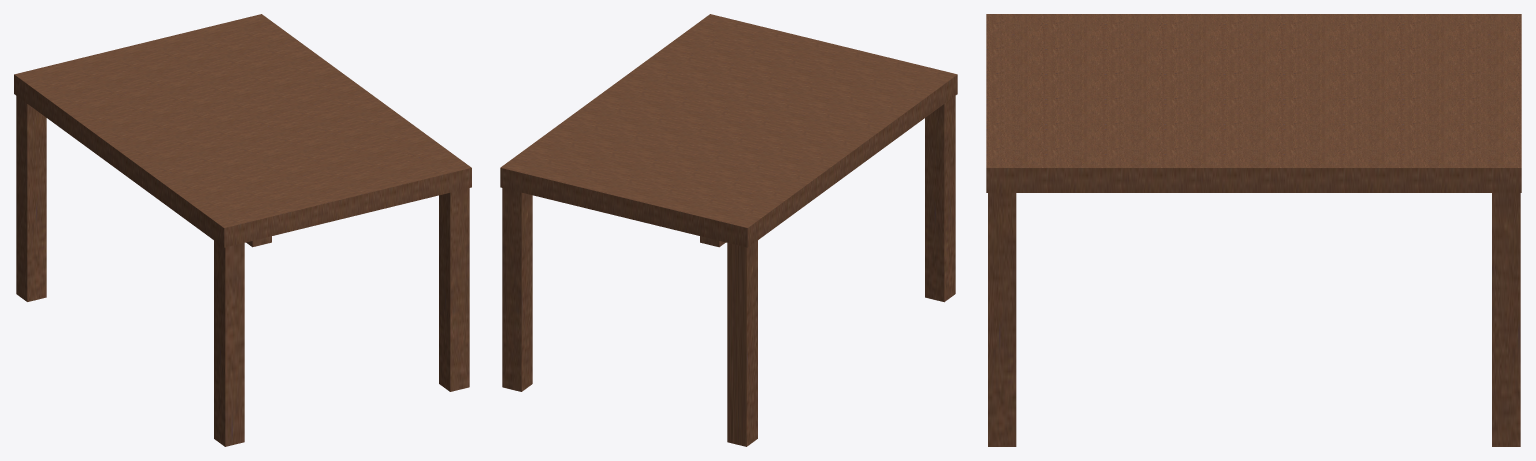
Rendered from table.glb.
3 views of the same model, side by side, from view 1: azimuth 30°, elevation 25°; view 2: azimuth 150°, elevation 25°; view 3: azimuth 270°, elevation 25° (orthographic). The views are drawn at different scales.
Visible parts, largest first — view 1: Table; view 2: Table; view 3: Table.
Part boxes in pixels (x1,y1,x2,y2): Table: [14, 14, 471, 446]; Table: [500, 14, 957, 446]; Table: [986, 14, 1521, 446].
Bounding box in the file's own units: 56.21 × 47.64 × 82.61.
Materials: 1 (1 with a texture image).
